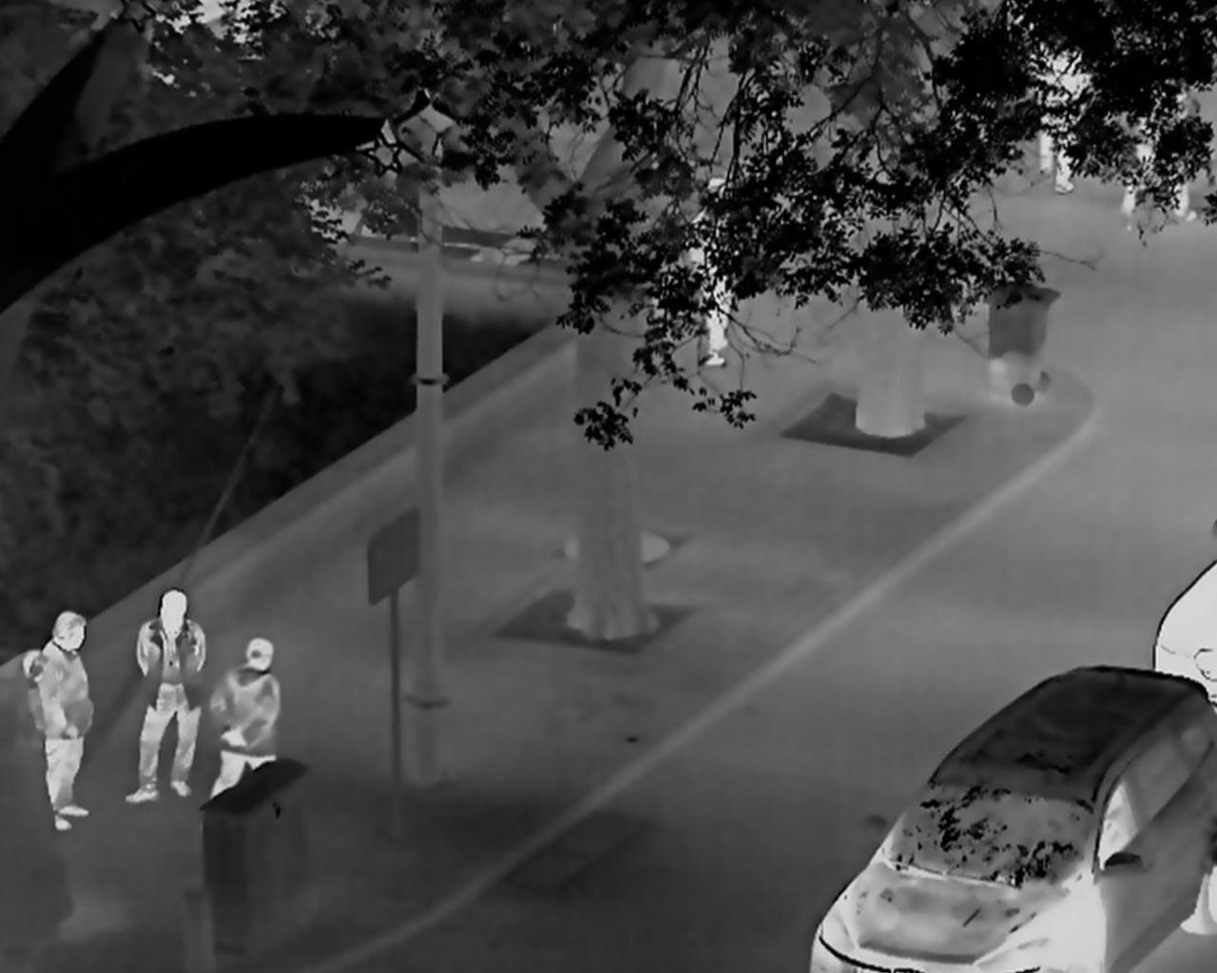person: (124, 586, 206, 806), (38, 609, 96, 832), (1119, 77, 1199, 229), (1028, 31, 1097, 197), (210, 638, 280, 800), (682, 177, 735, 369), (17, 649, 46, 739)
